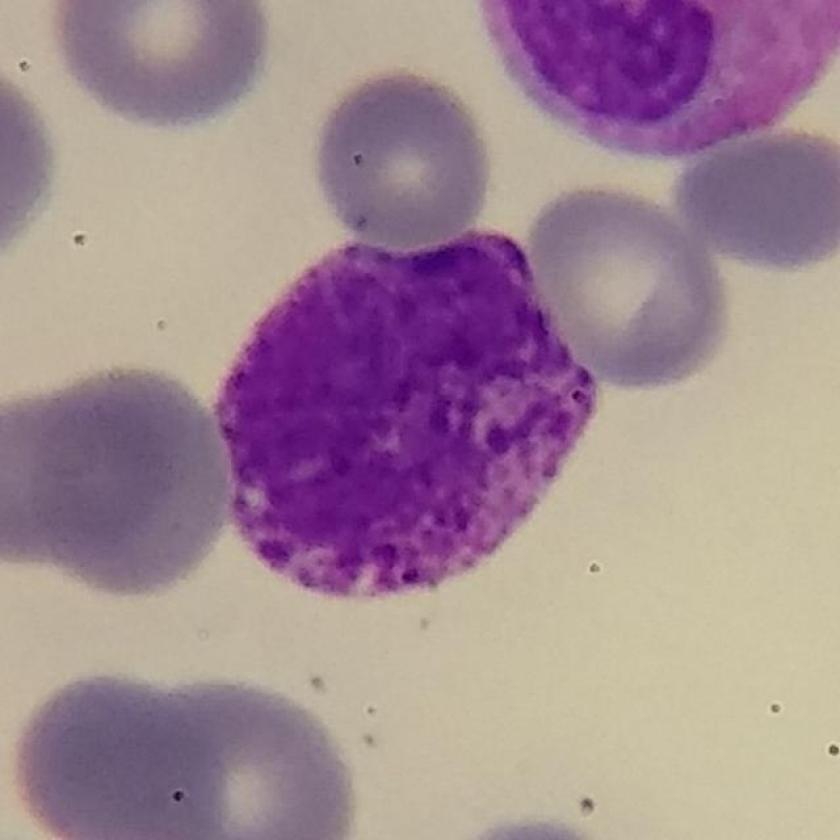basophil: (218, 214, 601, 608)
